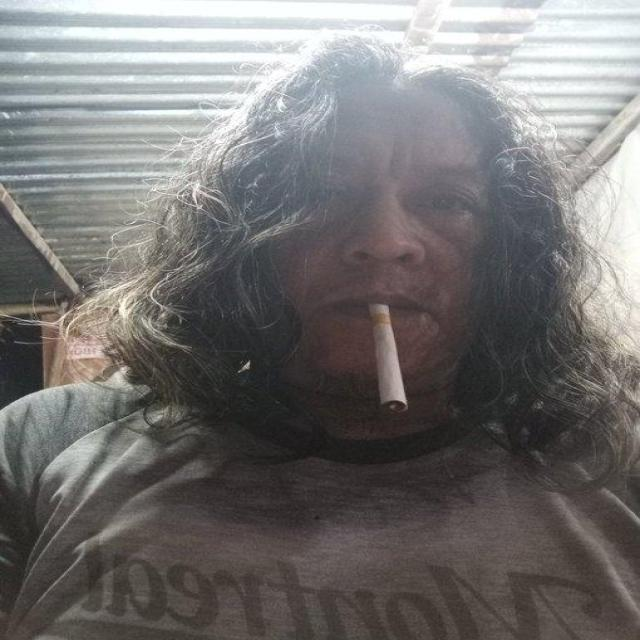rokok: (368, 298, 410, 414)
